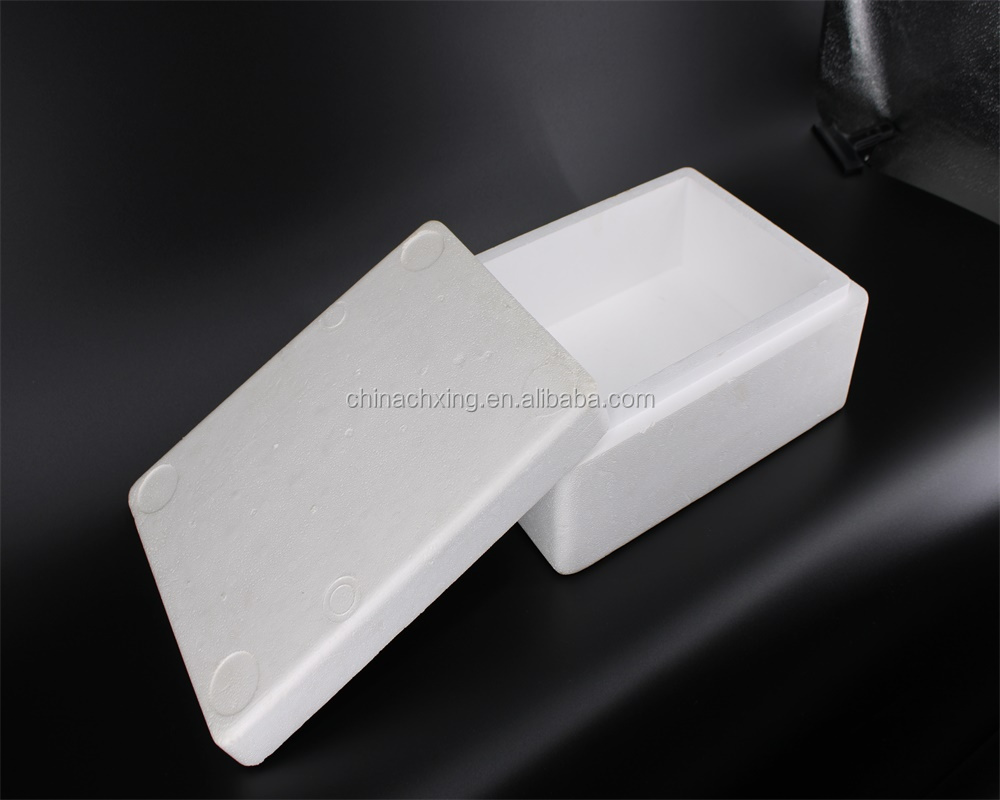泡沫箱: (476, 169, 866, 573)
